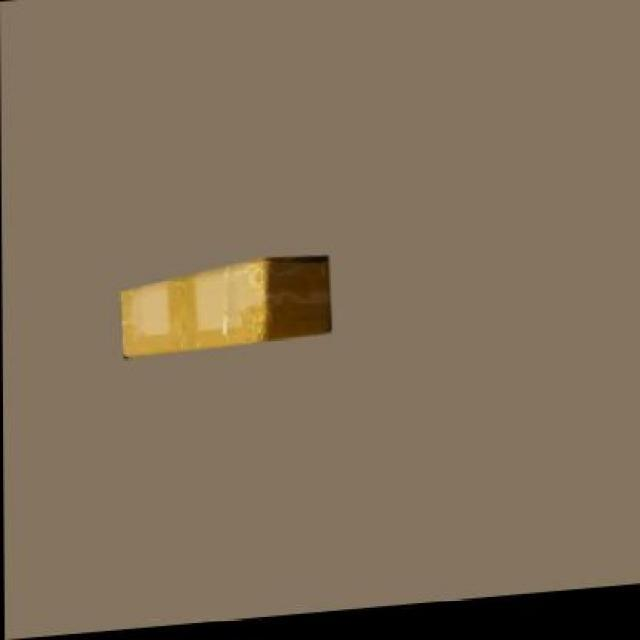box: (123, 260, 327, 359)
